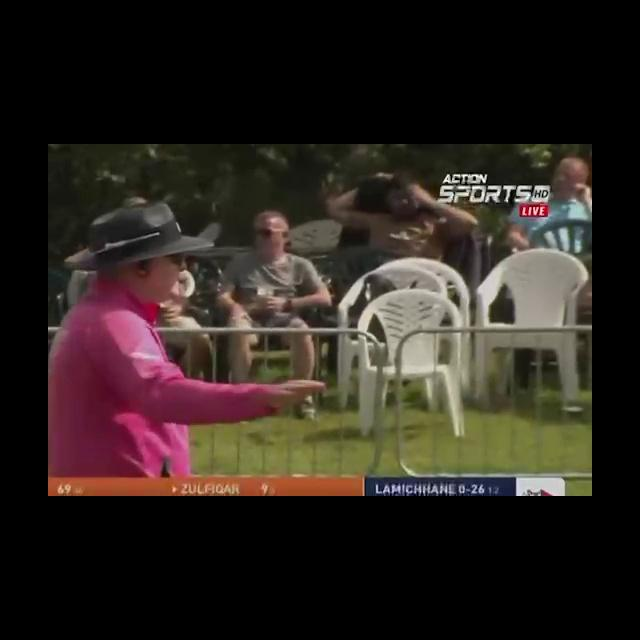umpire: (48, 173, 436, 472)
